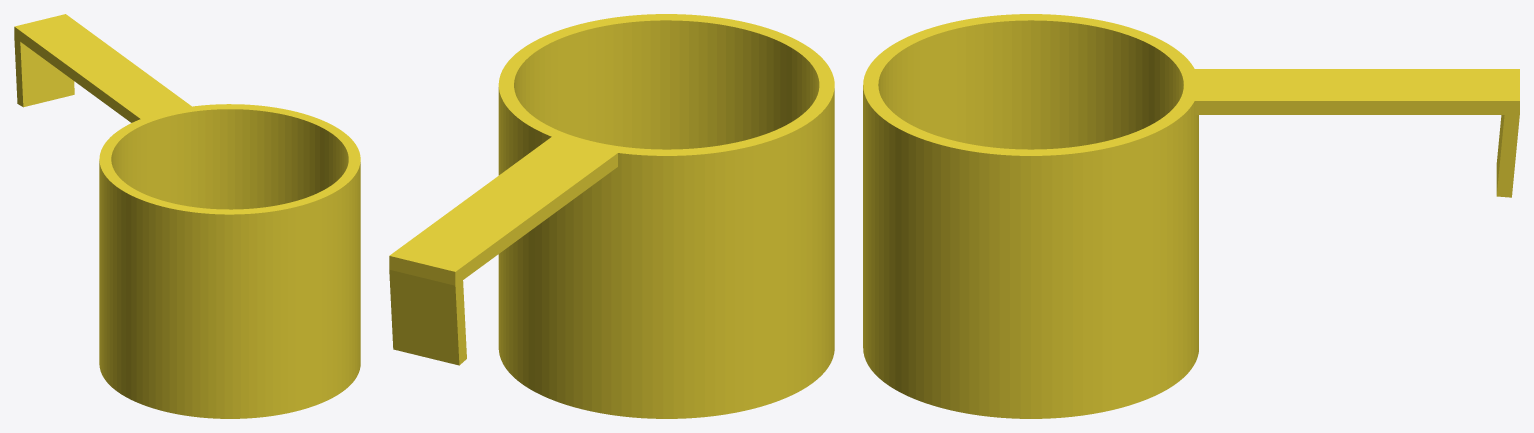
File: openscad_couch-cup-holder.glb
3 views of the same model, side by side, from view 1: azimuth 30°, elevation 25°; view 2: azimuth 150°, elevation 25°; view 3: azimuth 270°, elevation 25° (orthographic). The views are drawn at different scales.
Parts seen in each view (by area): view 1: object; view 2: object; view 3: object.
Part boxes in pixels (x1,y1,x2,y2): object: (14,14,360,418); object: (389,14,834,418); object: (863,14,1519,418).
Bounding box in the file's own units: 110 × 95 × 215.
